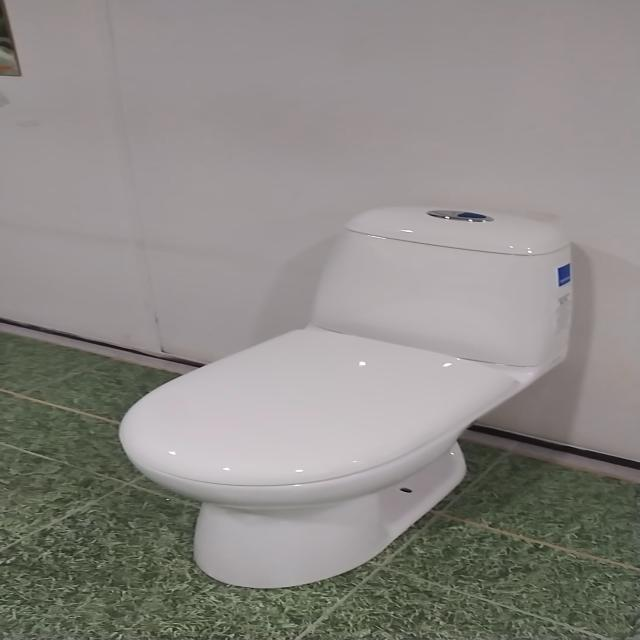toilet: (117, 204, 574, 589)
